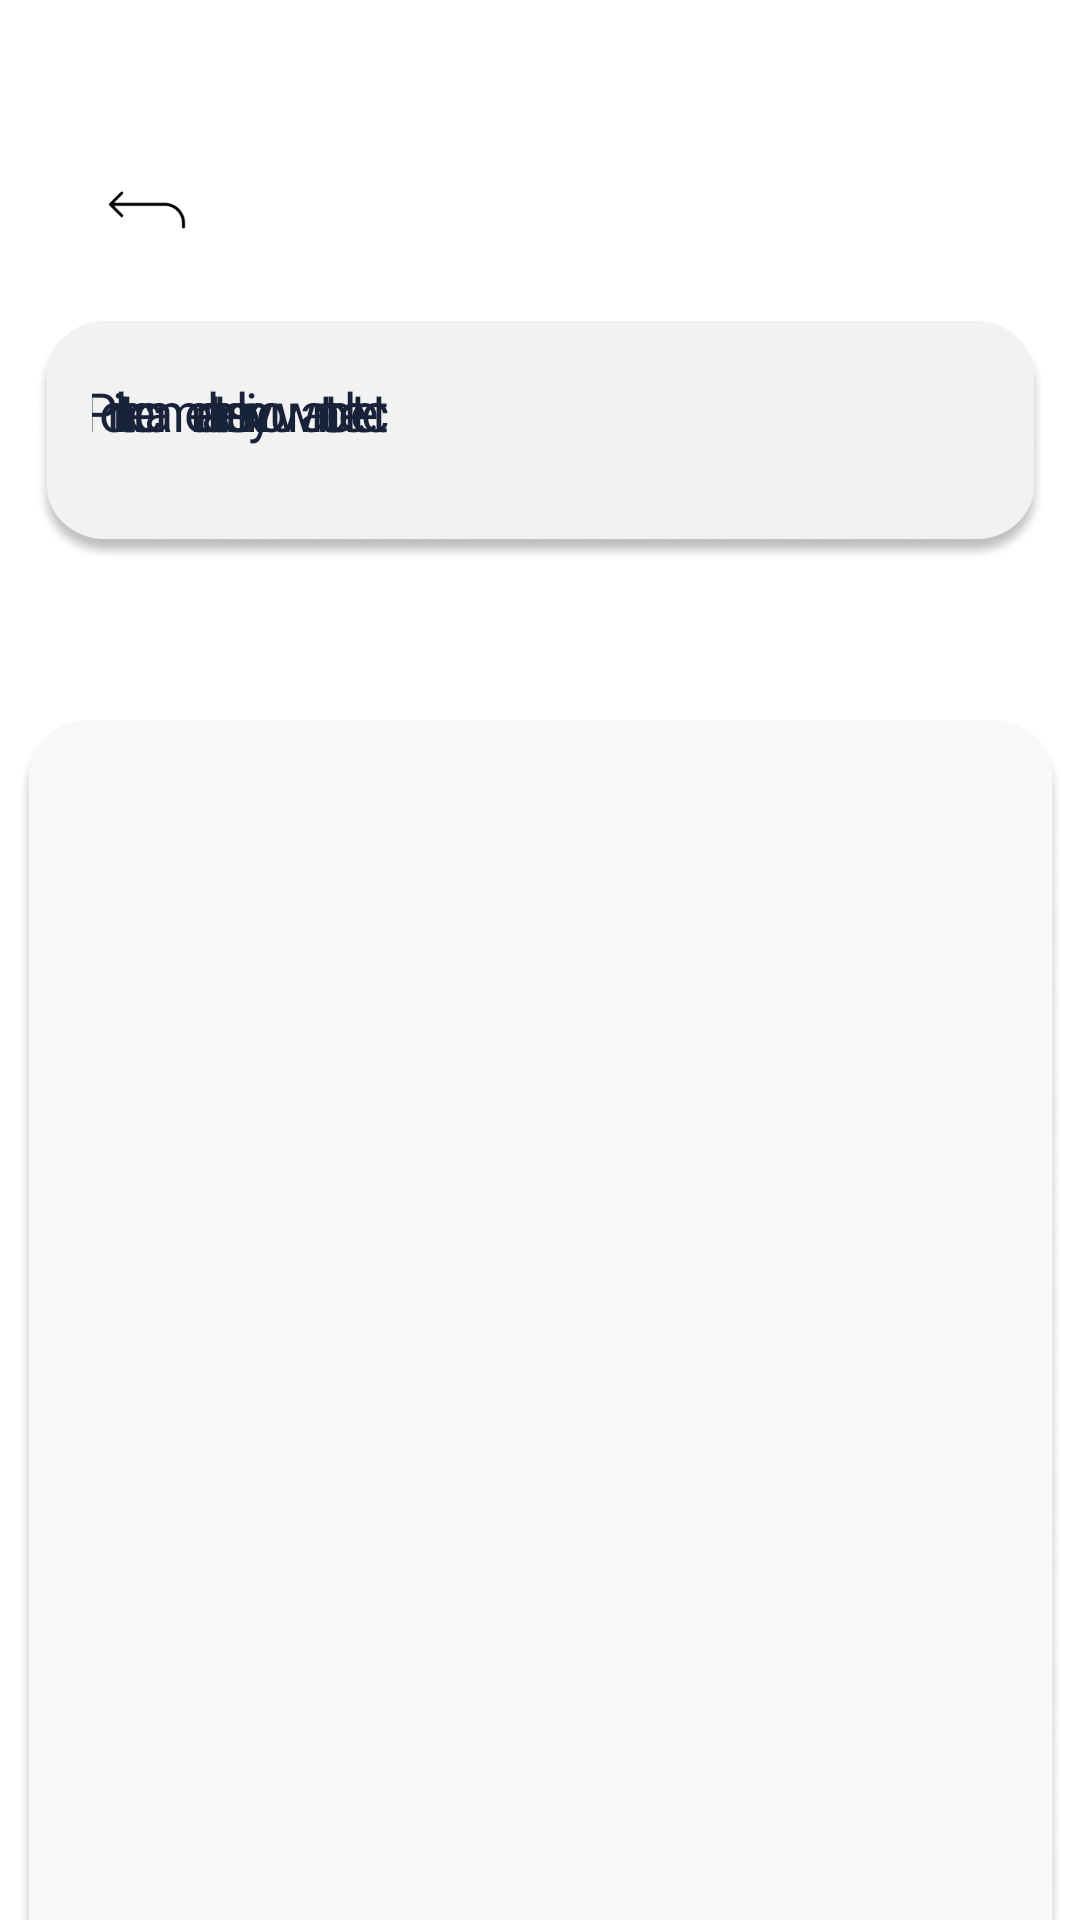

Icon bounding boxes for this 1080 x 1920 phone screenshot, format {"x1": x1, "y1": y1, "x2": x2, "y2": y2}:
Back to home: {"x1": 108, "y1": 191, "x2": 186, "y2": 229}
